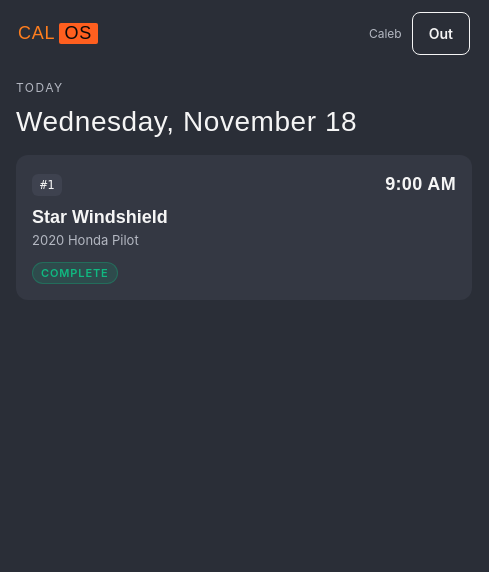
the complete confirmation says when the card was paid
Click the button with test id "field-job-job-1". click: (47, 184)
box: [16,155,472,300]
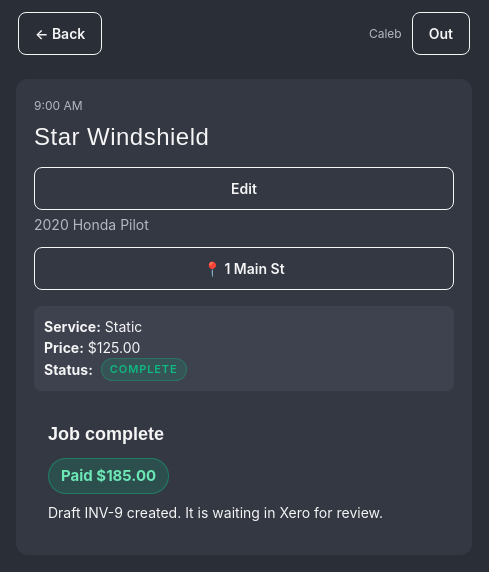
Now the element with test id "payment-status-line" reads "Paid $185.00", box [61,466,156,484]
Now the text with test id "xero-draft-status" shows "Draft INV-9 created", box [48,502,440,523]
